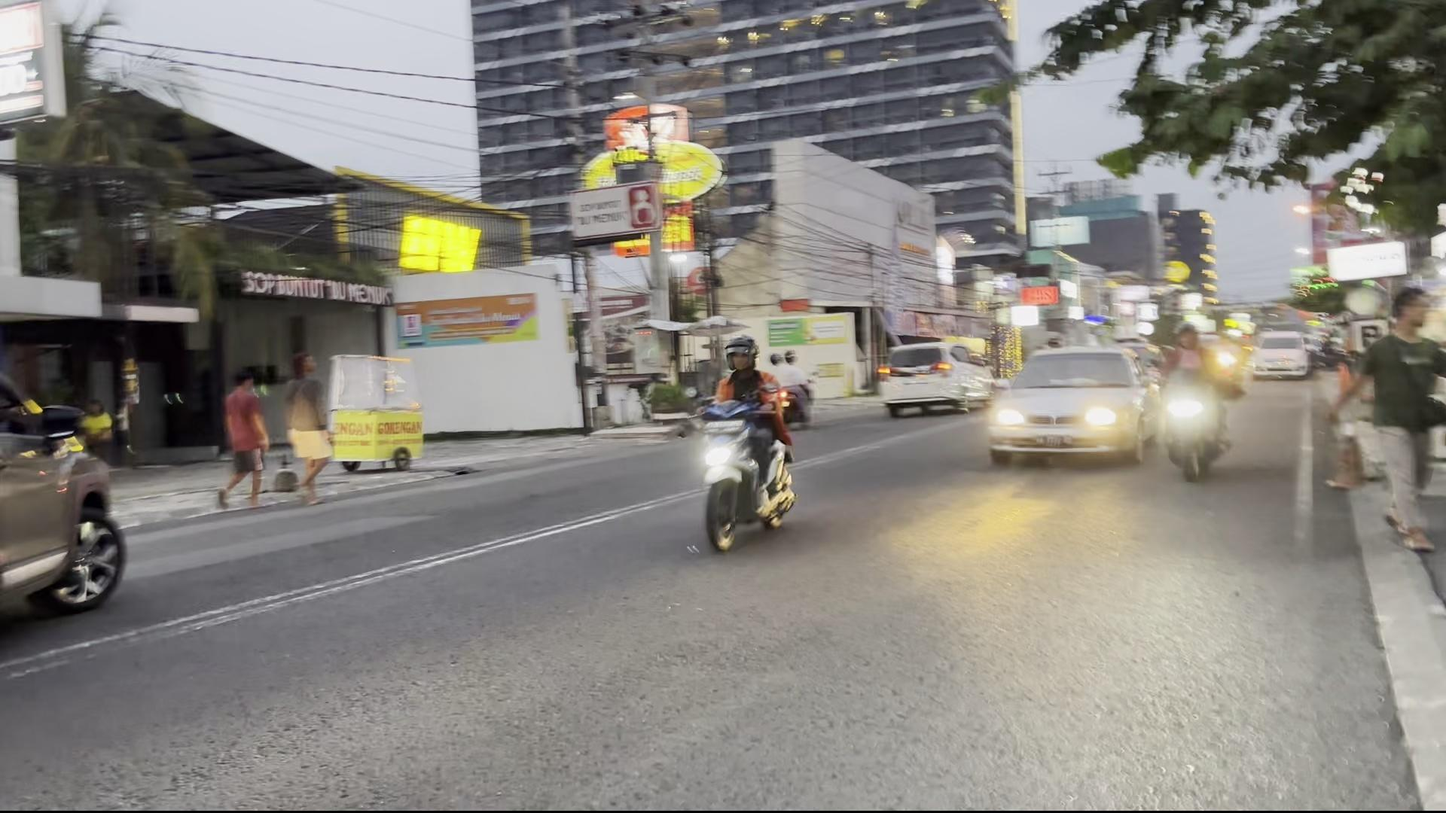helm: (718, 331, 762, 375)
riding: (692, 326, 798, 555)
